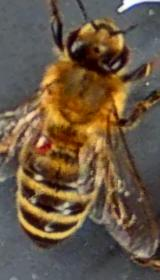varroa_mite: (20, 130, 58, 156)
